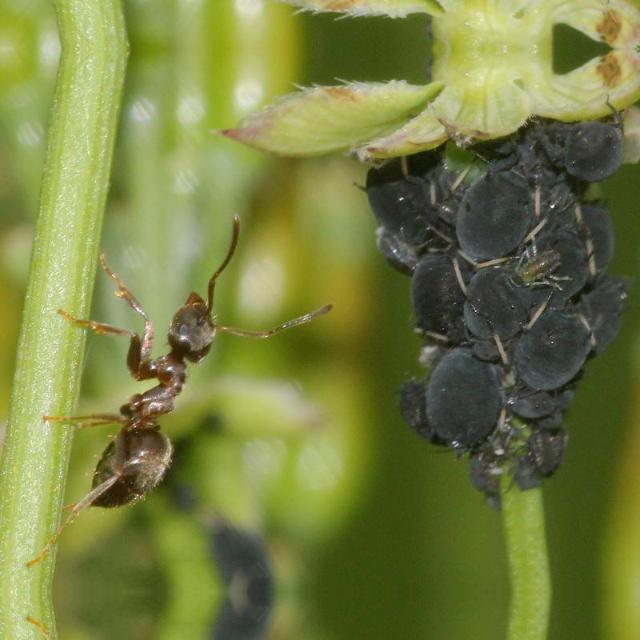Lasius: (59, 236, 247, 542)
